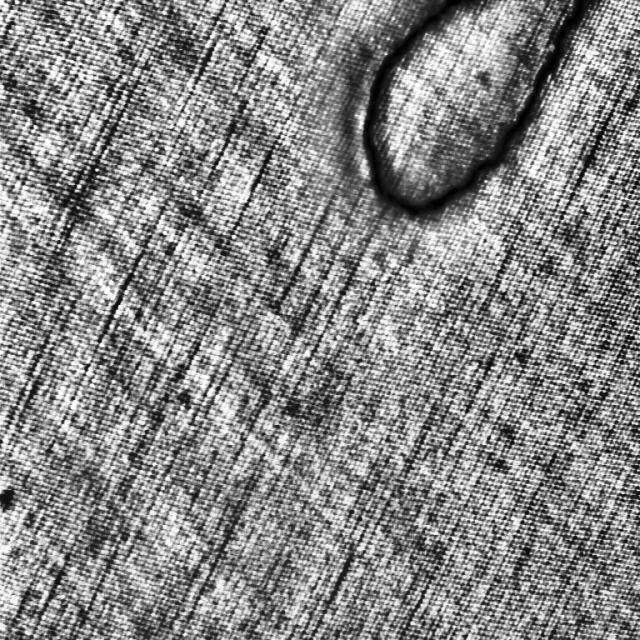gray stitch: (355, 0, 589, 224)
